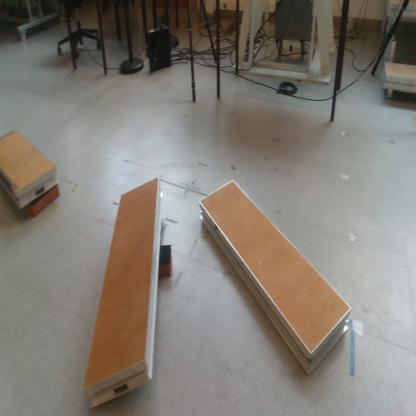Stairs: (200, 181, 350, 377), (85, 175, 163, 411), (1, 130, 60, 208)
